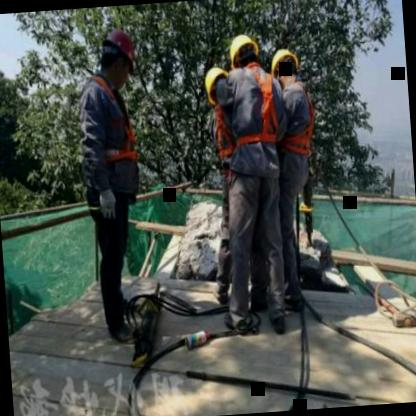helmet: (98, 22, 140, 90), (226, 30, 264, 81), (268, 44, 303, 90), (202, 64, 235, 108)
